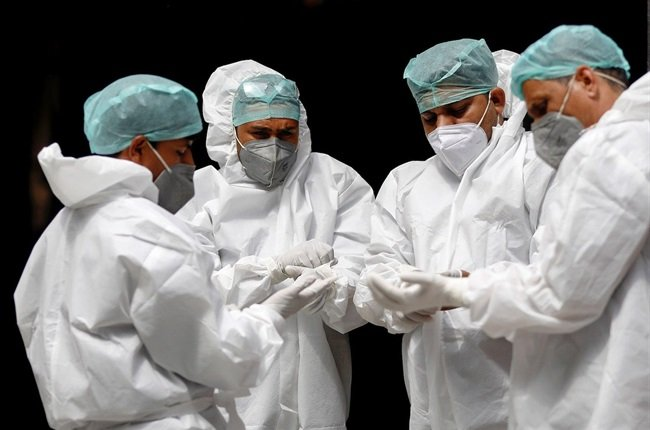Coverall: (181, 59, 380, 430), (13, 133, 232, 430), (360, 119, 557, 430), (514, 89, 650, 430)
Gloves: (364, 269, 470, 319), (259, 274, 340, 322), (266, 235, 340, 284)
with_mask: (526, 74, 596, 180), (423, 89, 496, 184), (240, 118, 300, 188), (153, 133, 197, 216)
